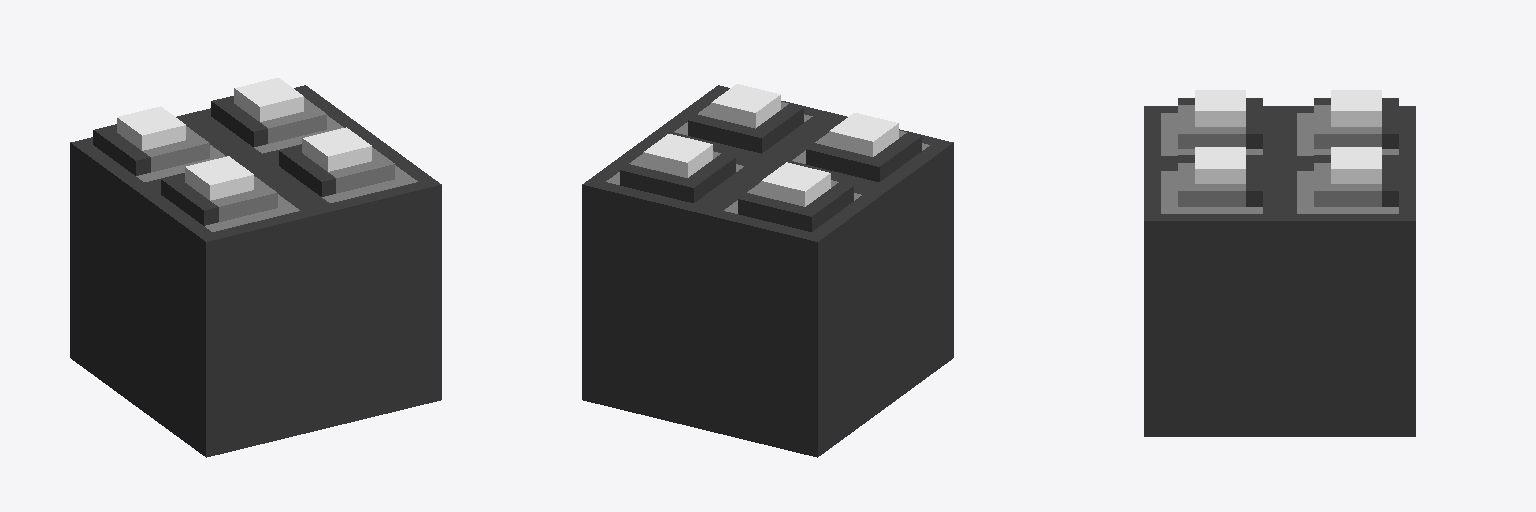
The picture shows the model from 3 angles: view 1: azimuth 30°, elevation 25°; view 2: azimuth 150°, elevation 25°; view 3: azimuth 270°, elevation 25°; orthographic projection.
Parts seen in each view (by area): view 1: steel_block; view 2: steel_block; view 3: steel_block.
Part boxes in pixels (x1,y1,x2,y2): steel_block: (70,78,441,457); steel_block: (582,84,953,457); steel_block: (1144,90,1415,436).
Bounding box in the file's own units: 16 × 16 × 16.
Materials: 1 (1 with a texture image).